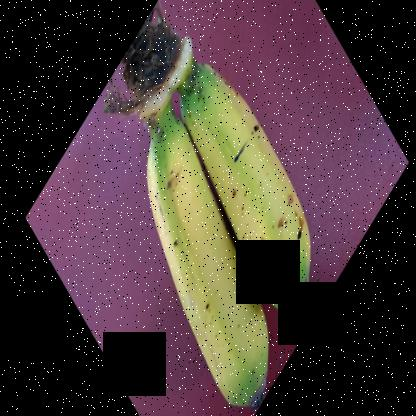freshripe: (146, 143, 274, 413)
ripe: (184, 50, 327, 315)
